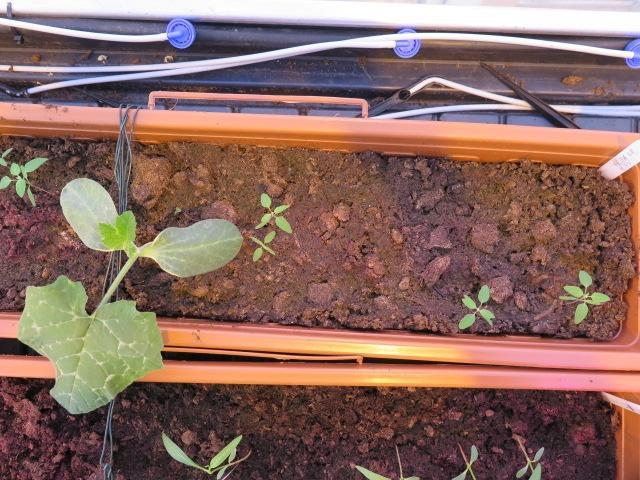weed: (553, 263, 614, 328), (450, 280, 496, 331)
